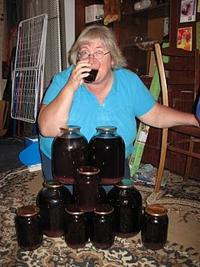person: (37, 22, 200, 197)
